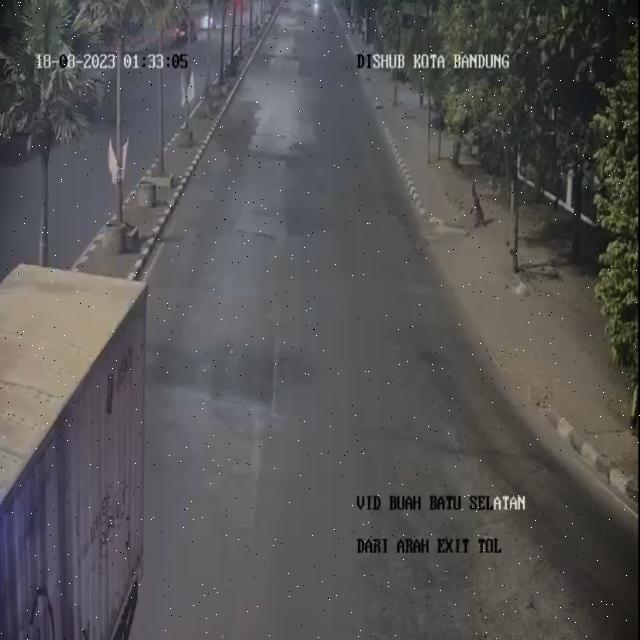truck: (0, 257, 156, 639)
